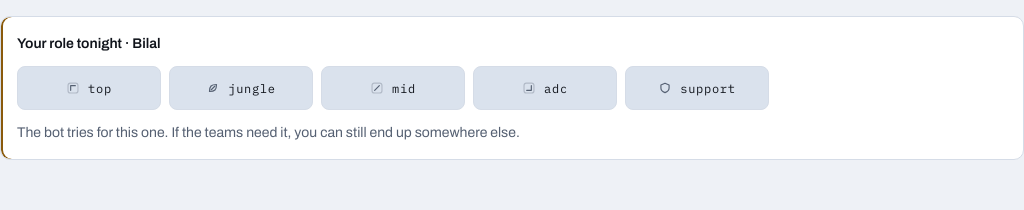
Test case: the role control, for a linked viewer in tonight's lobby › prints the route's own sentence beside the control and puts the word back
The width and height of the screenshot is (1024, 210).
Click the button "mid". click: {"x": 393, "y": 88}
box: [321,66,465,110]
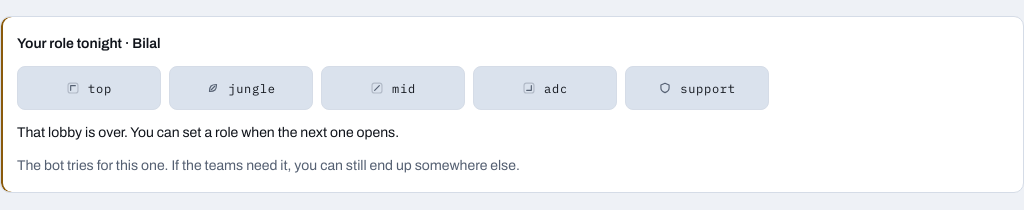
Result: the message reads "That lobby is over. You can set a role when the next one opens." at [17,125,399,140]
